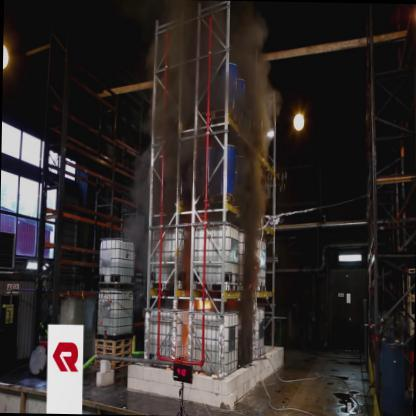smoke: (233, 5, 284, 288), (120, 0, 168, 275)
